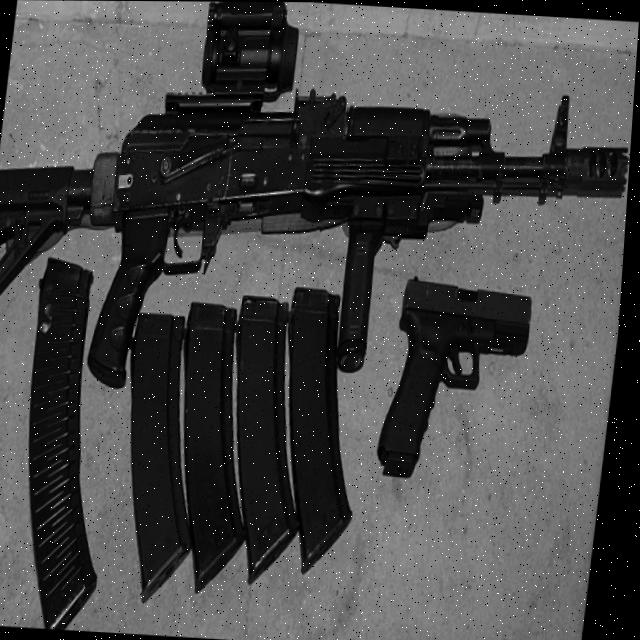firearm: (0, 0, 640, 418)
pistol: (378, 268, 542, 488)
